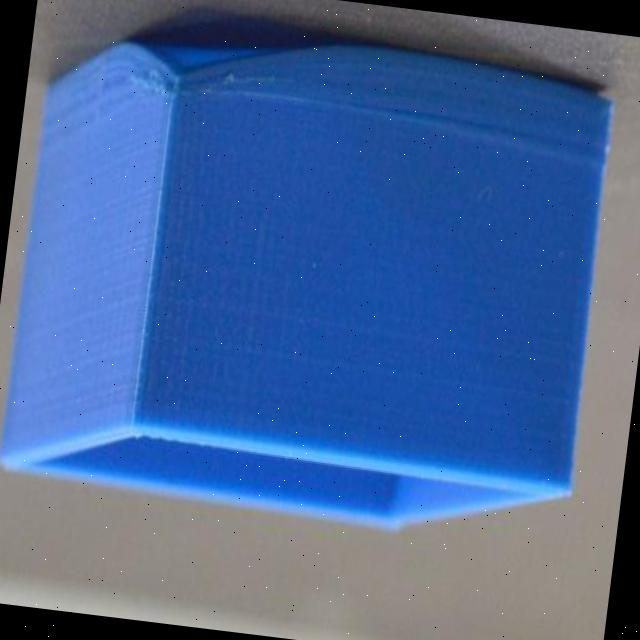cracks: (112, 8, 351, 122)
